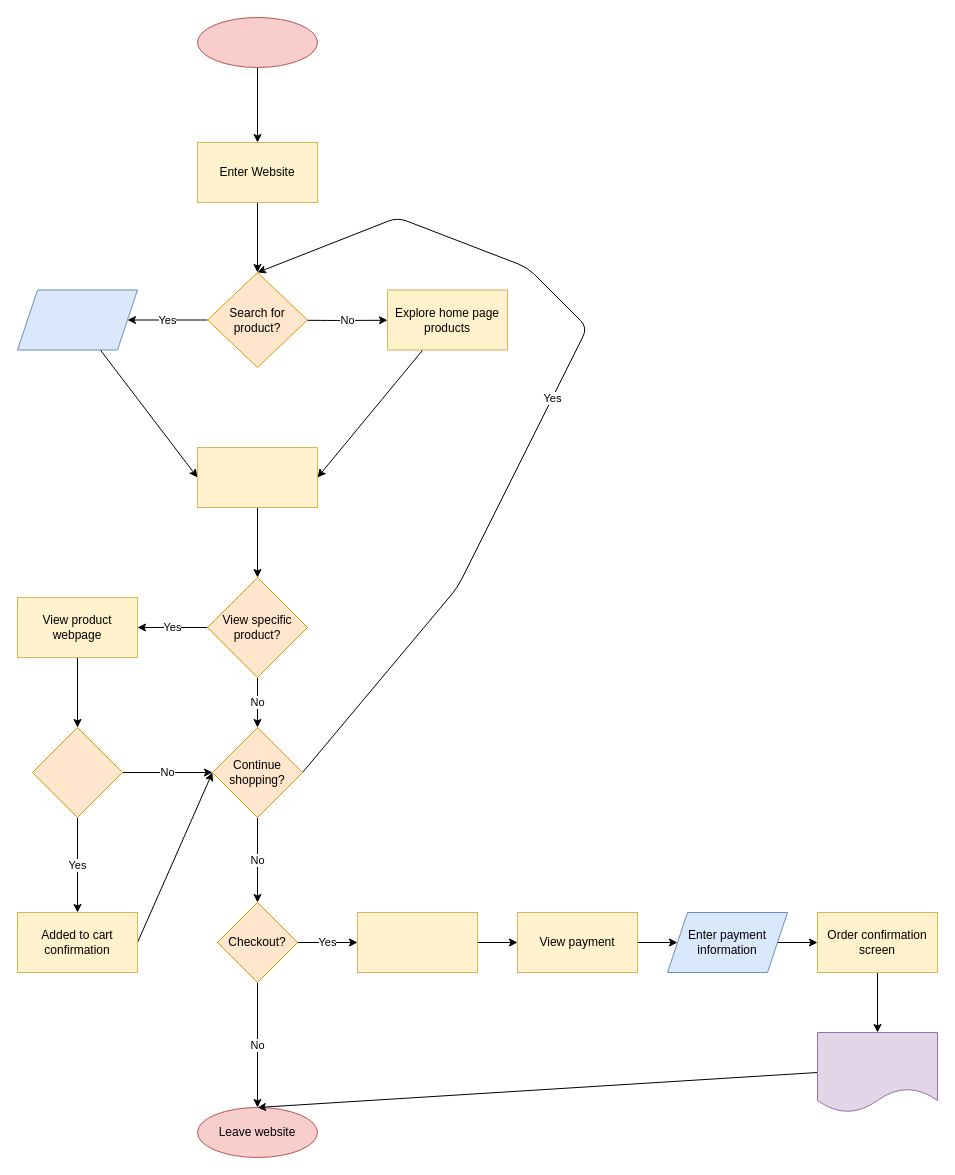
The diagram is 955 pixels wide and 1175 high, and some of its shapes have lost their labels. Here are the shapes that lost their labels. From the top down, the centre of each, then its label:
At point (257, 42): "Start".
At point (77, 319): "Enter search input".
At point (257, 477): "Browse products".
At point (77, 772): "Add item to cart?".
At point (417, 942): "View cart".
At point (877, 1072): "Recieve confirmation email".
